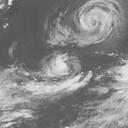cyclone: (48, 2, 125, 47)
